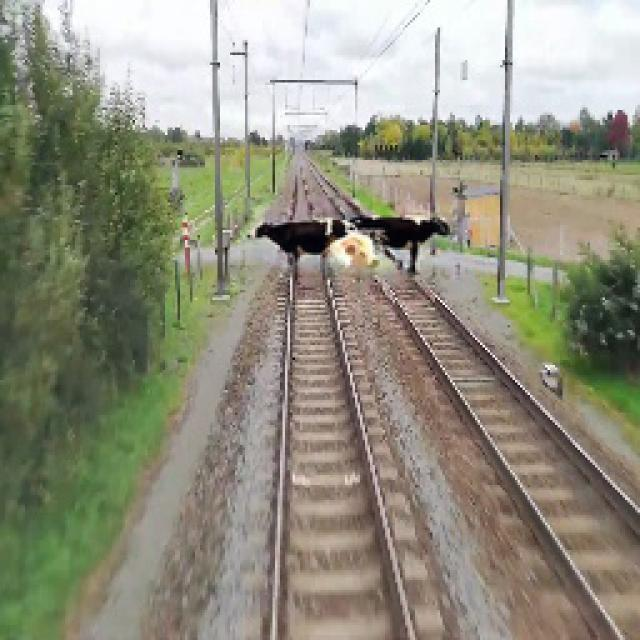danger: (244, 210, 456, 288)
rail: (225, 156, 478, 640)
